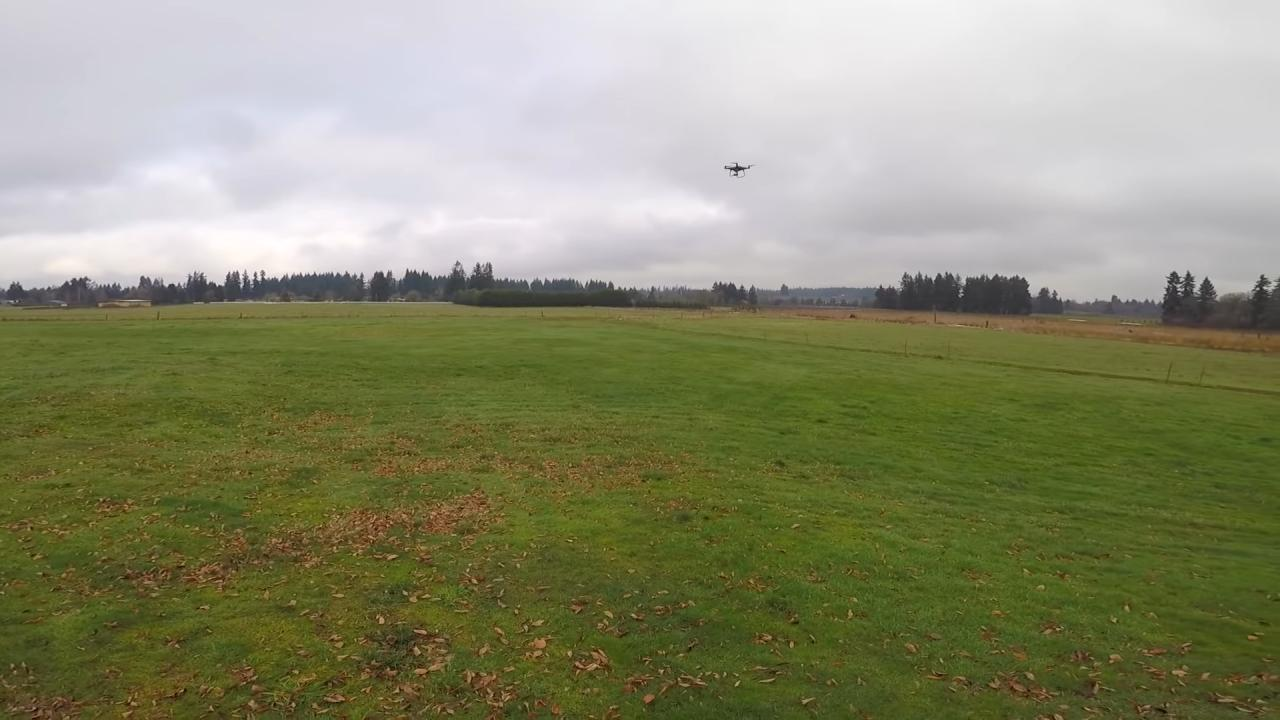Drone: (716, 153, 764, 184)
